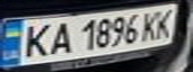1: (75, 16, 96, 51)
6: (124, 11, 145, 45)
8: (93, 15, 115, 48)
9: (109, 14, 130, 47)
A: (45, 19, 75, 56)
K: (15, 20, 54, 60), (151, 6, 178, 39), (139, 7, 163, 42)
